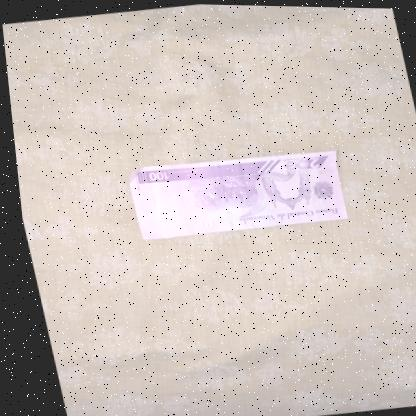one_hundred-back-vef: (119, 141, 349, 244)
